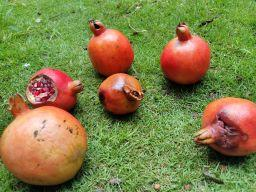pomegranate: (0, 93, 88, 185), (193, 97, 256, 157), (159, 22, 211, 85), (88, 20, 134, 75), (26, 68, 84, 109), (97, 73, 144, 115)
